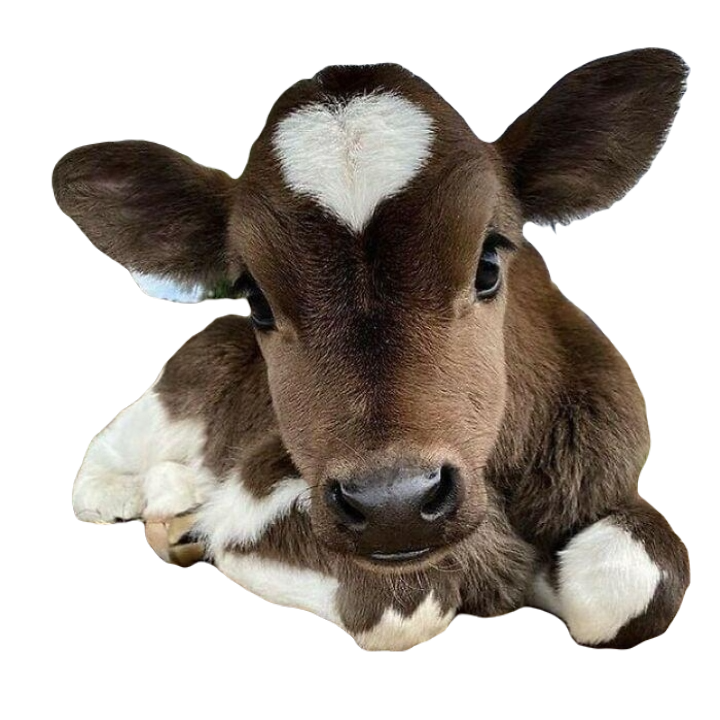Cow: (46, 46, 692, 655)
